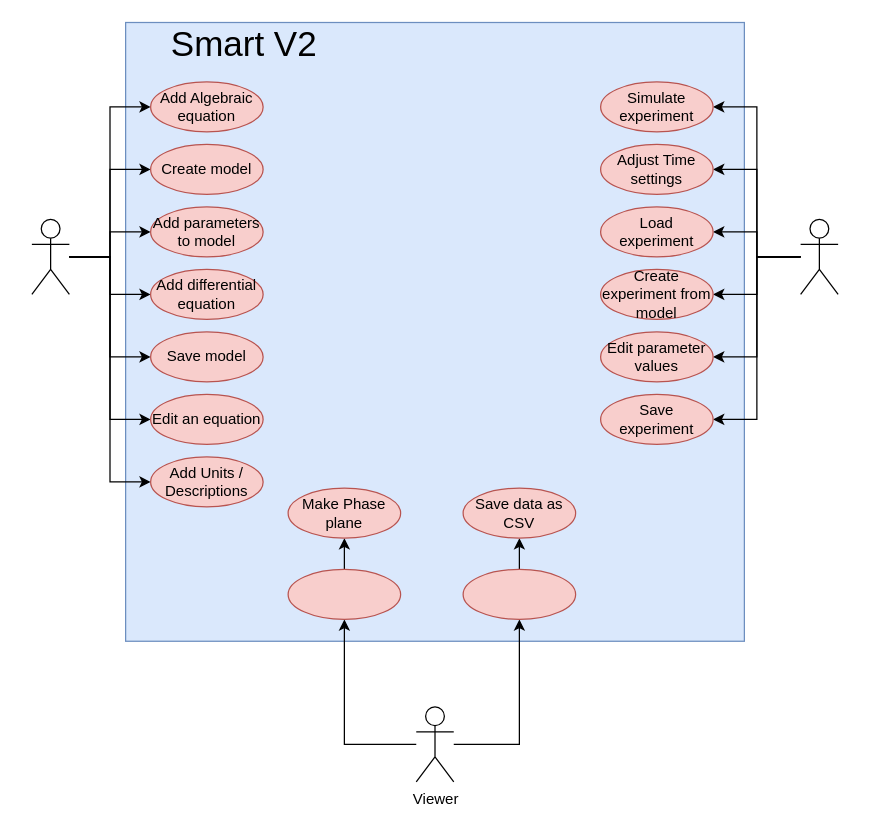
The diagram is 885 pixels wide and 829 high, and some of its shapes have lost their labels. Each missing label, with the centre of its shape:
"Draw/add graph" belongs at point 344,593.
"Experimentor" belongs at point 818,256.
"Modeller" belongs at point 50,256.
"Visualize table" belongs at point 519,593.
